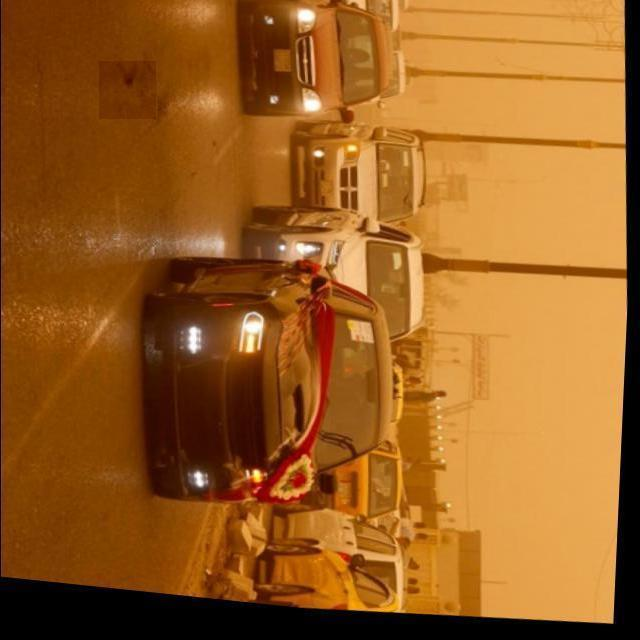Speed Bump: (99, 62, 156, 120)
